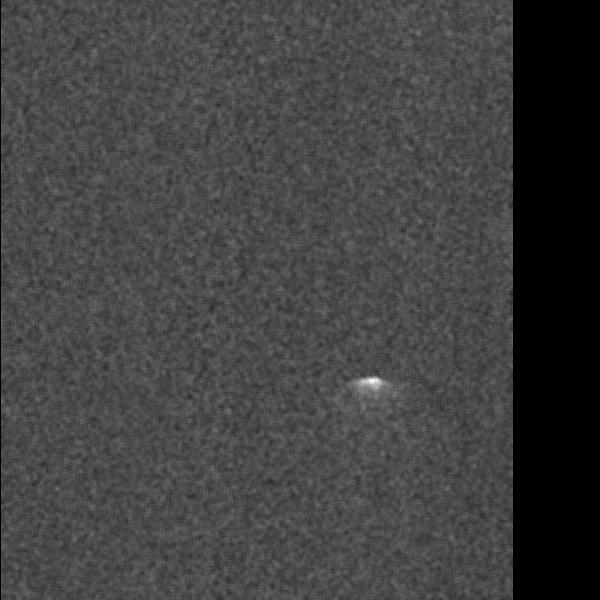spark: (349, 371, 391, 411)
